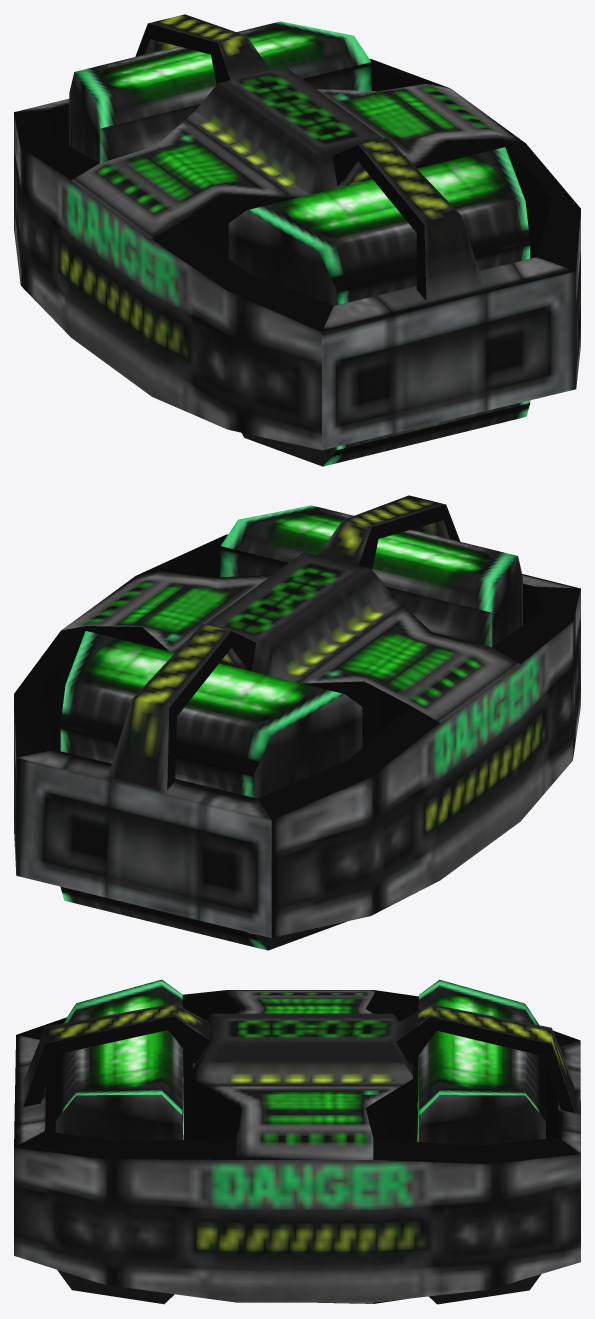
The model's file is detpack.glb.
3 views of the same model, one above another, from view 1: azimuth 30°, elevation 25°; view 2: azimuth 150°, elevation 25°; view 3: azimuth 270°, elevation 25° (orthographic). The views are drawn at different scales.
Visible parts, largest first — view 1: detpack; view 2: detpack; view 3: detpack.
Part boxes in pixels (x1,y1,x2,y2): detpack: [14, 14, 580, 466]; detpack: [14, 495, 580, 950]; detpack: [14, 979, 580, 1304].
Bounding box in the file's own units: 22.82 × 15.16 × 32.26.
Materials: 2 (2 with a texture image).
